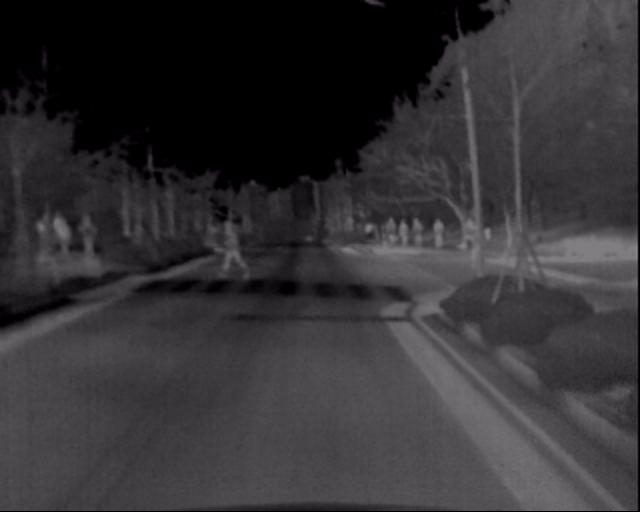person: (7, 216, 46, 297), (210, 214, 239, 283), (461, 220, 482, 271), (68, 216, 88, 267), (43, 220, 63, 264)
